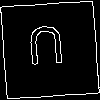U: (25, 25, 68, 74)
